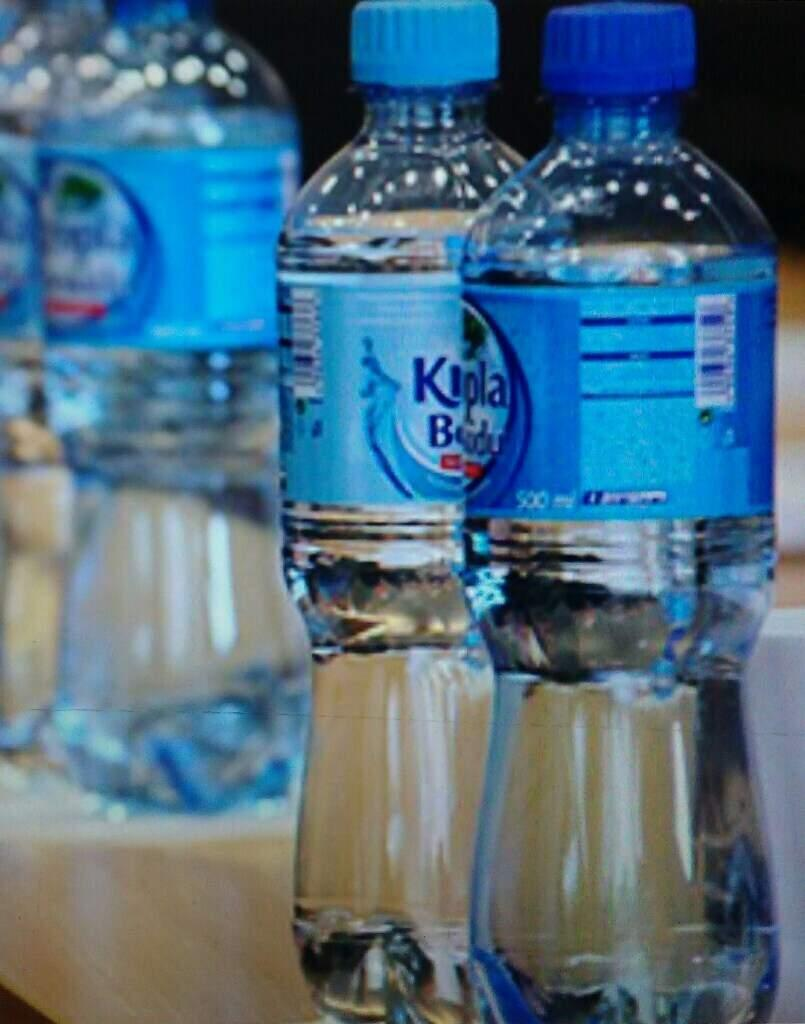bottle: (243, 0, 611, 1024), (435, 0, 801, 1024), (19, 1, 338, 830), (0, 0, 179, 778)
